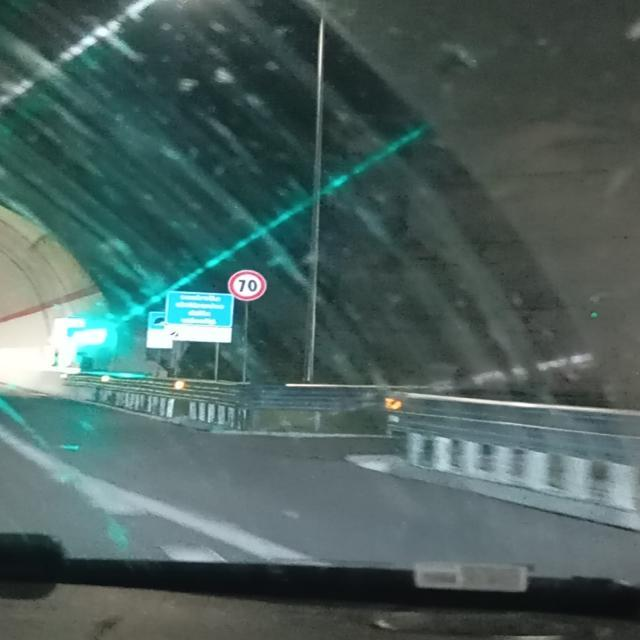forb_speed_over_70: (226, 269, 269, 302)
